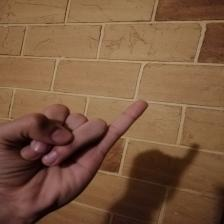five: (9, 94, 152, 212)
